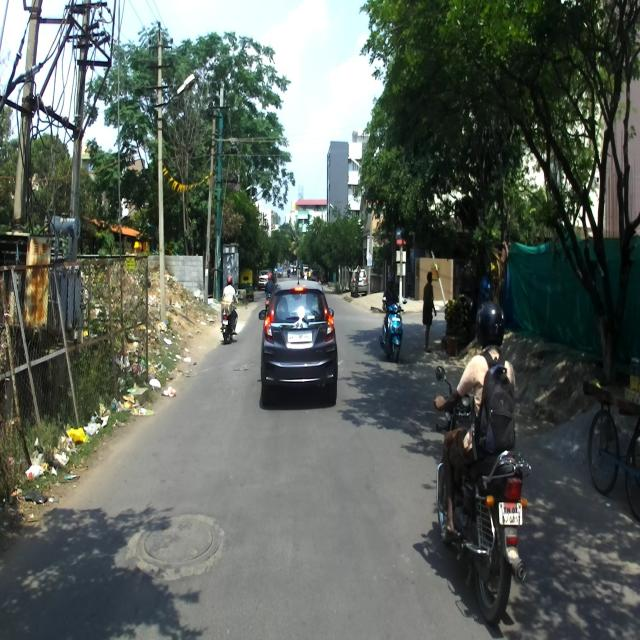car: (258, 268, 338, 408)
motorcycle: (433, 365, 531, 625)
scooter: (379, 295, 407, 364)
